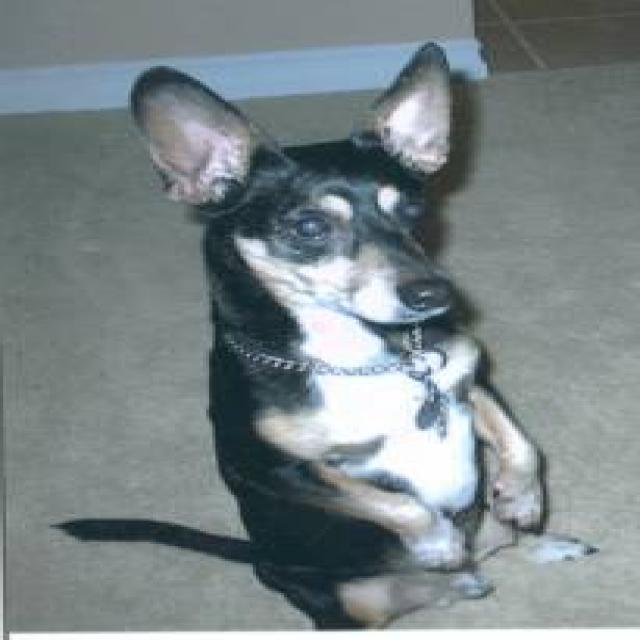dog-chihuahua: (41, 34, 603, 636)
